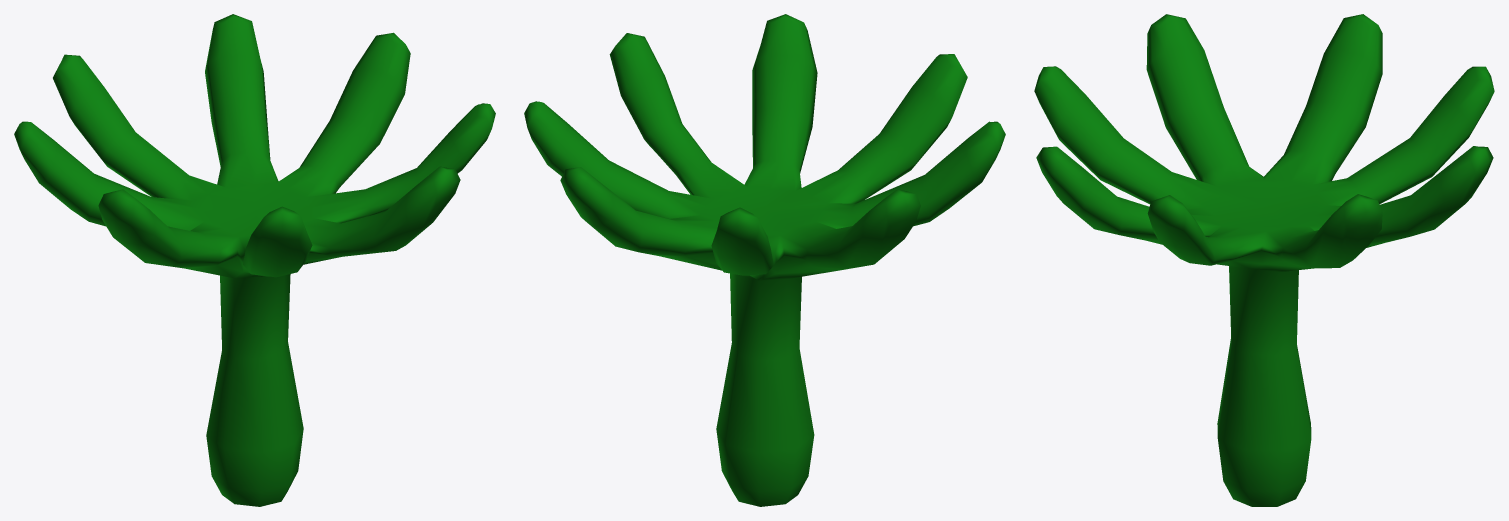
Rendered from SM_Tree_11.fbx.
3 views of the same model, side by side, from view 1: azimuth 30°, elevation 25°; view 2: azimuth 150°, elevation 25°; view 3: azimuth 270°, elevation 25° (orthographic).
Parts seen in each view (by area): view 1: SM_Tree_11; view 2: SM_Tree_11; view 3: SM_Tree_11.
Part boxes in pixels (left/top/right/bottom): SM_Tree_11: left=14, top=14, right=495, bottom=506; SM_Tree_11: left=524, top=14, right=1005, bottom=506; SM_Tree_11: left=1034, top=14, right=1494, bottom=506.
Bounding box in the file's own units: 435 × 406 × 436.
